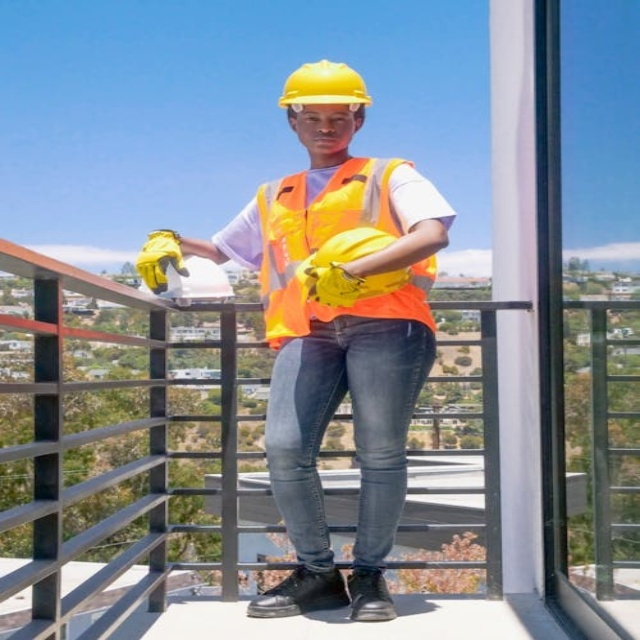Guantes: (299, 257, 372, 305), (136, 230, 187, 292)
Sin_gafas: (293, 111, 352, 126)
Sin_mascara: (300, 132, 340, 152)
